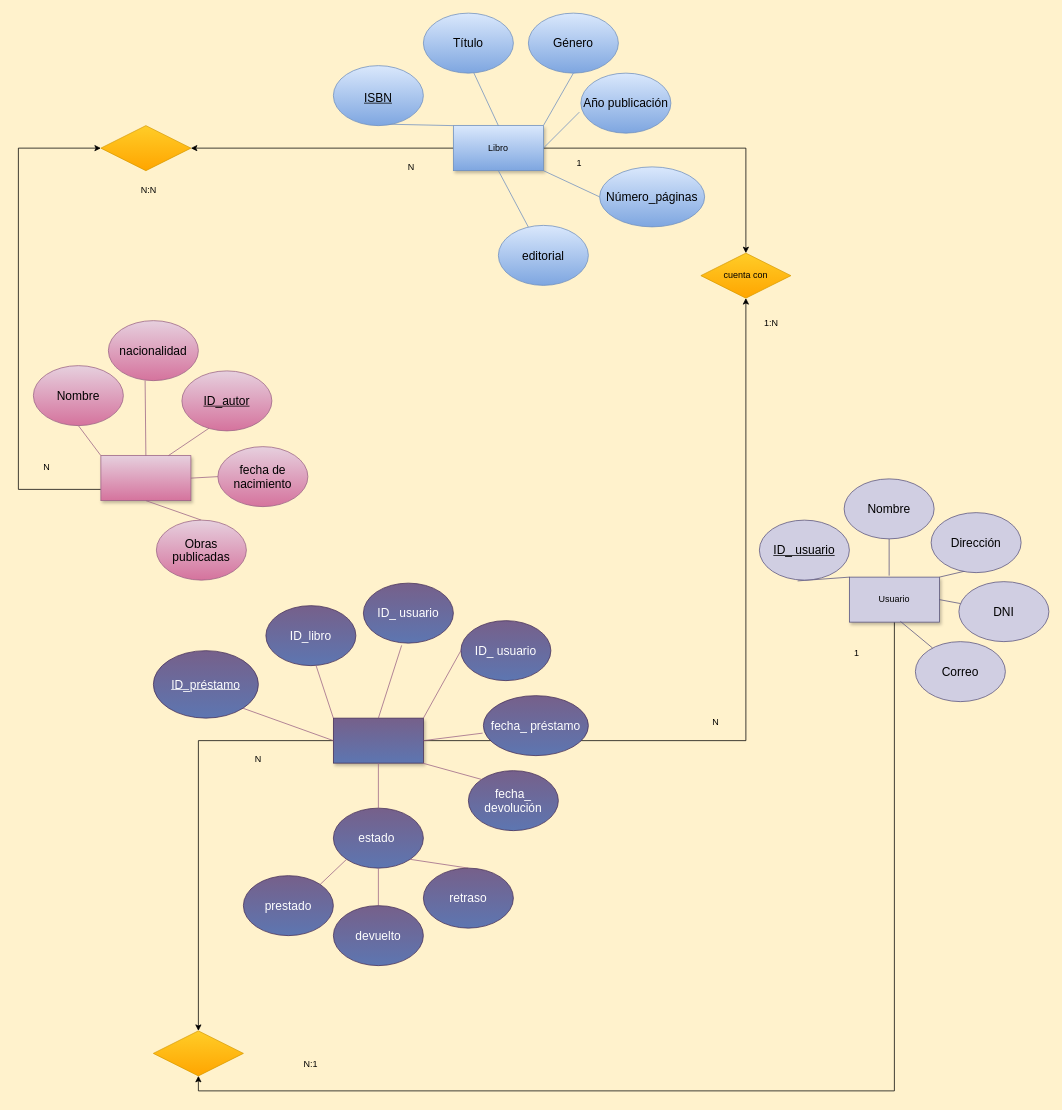
This 1062x1110 diagram has some shape labels left out. Here are the shapes that lost their labels. From the top down, the centre of each, then its label:
point 145,148: tiene
point 146,479: Autor
point 379,741: Prestamos
point 198,1053: Realiza
